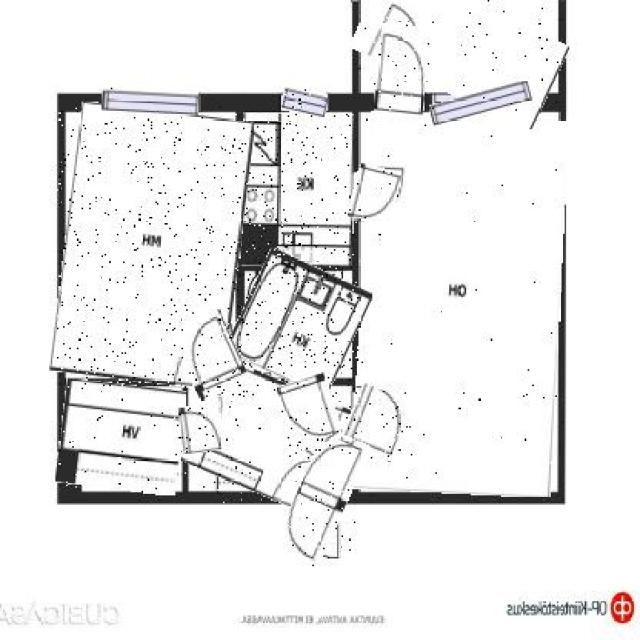door: (284, 431, 358, 566), (177, 314, 243, 397), (376, 24, 430, 116), (345, 388, 412, 462), (282, 375, 340, 448), (351, 166, 398, 223), (180, 406, 223, 452)
window: (431, 86, 532, 120), (102, 86, 198, 115), (282, 88, 328, 115)
zone: (355, 112, 563, 496), (57, 106, 246, 386), (183, 368, 362, 508), (353, 0, 564, 111), (241, 114, 354, 266), (232, 257, 363, 388), (59, 383, 184, 494)
